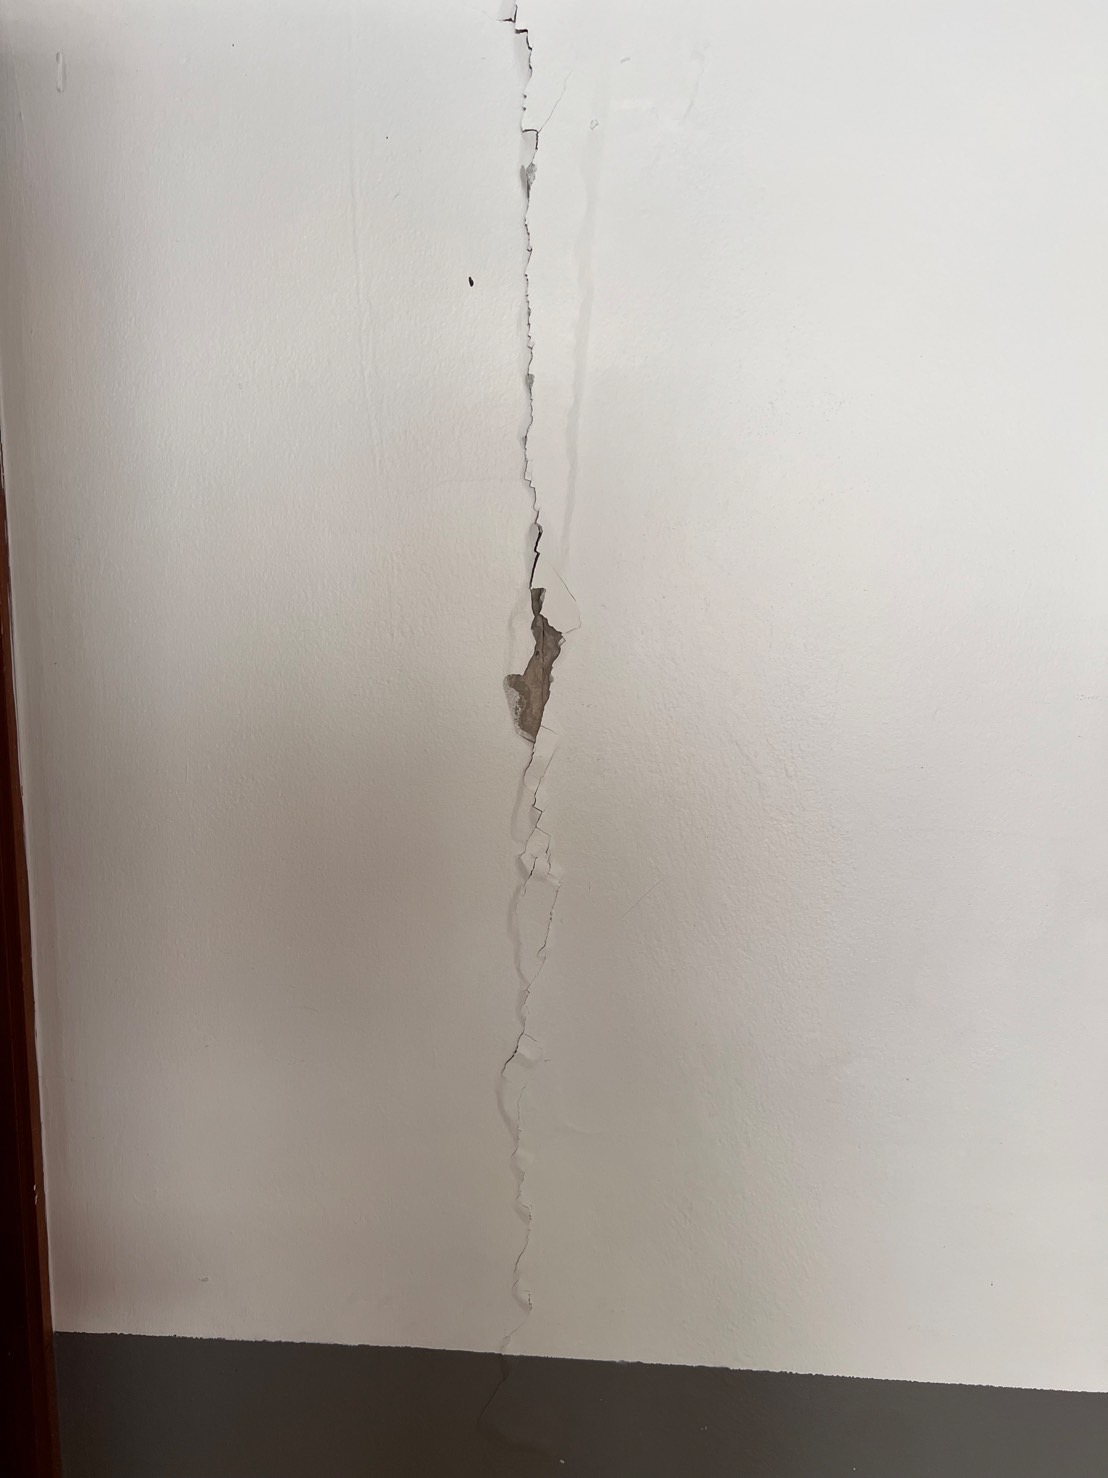Medium: (464, 65, 604, 921)
